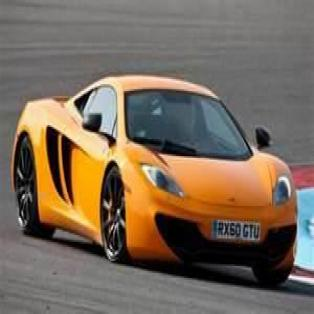Auto: (11, 74, 300, 281)
